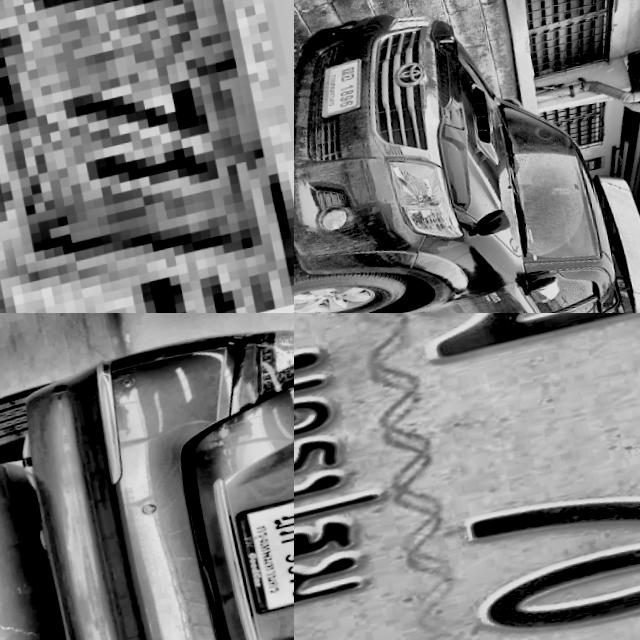license-plate: (294, 313, 640, 640), (0, 0, 294, 313), (221, 493, 294, 632), (307, 63, 369, 128)
